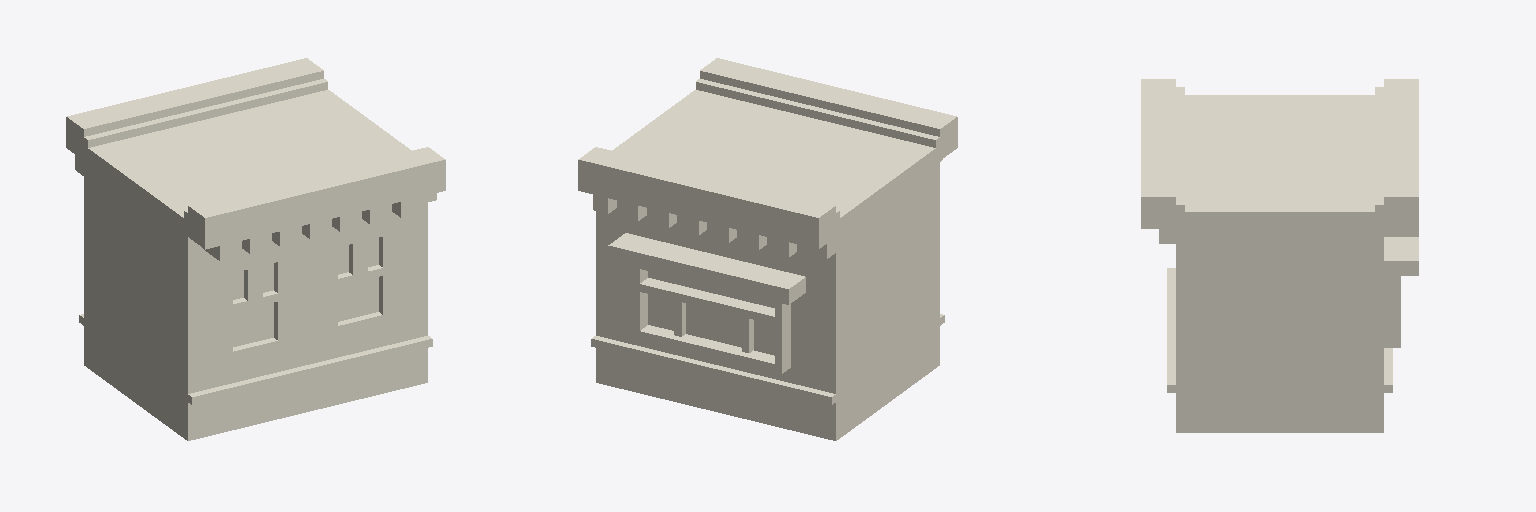
3 views of the same model, side by side, from view 1: azimuth 30°, elevation 25°; view 2: azimuth 150°, elevation 25°; view 3: azimuth 270°, elevation 25° (orthographic).
Visible parts, largest first — view 1: object 1; view 2: object 1; view 3: object 1.
Boxes of the visible parts, box(x1,y1,x2,y2) form: object 1: box(66, 58, 445, 440); object 1: box(578, 58, 957, 440); object 1: box(1141, 79, 1418, 432).
Bounding box in the file's own units: 3.2 × 3 × 3.2.
1 materials, 1 textured.